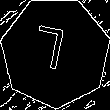L_S: (35, 25, 75, 80)
